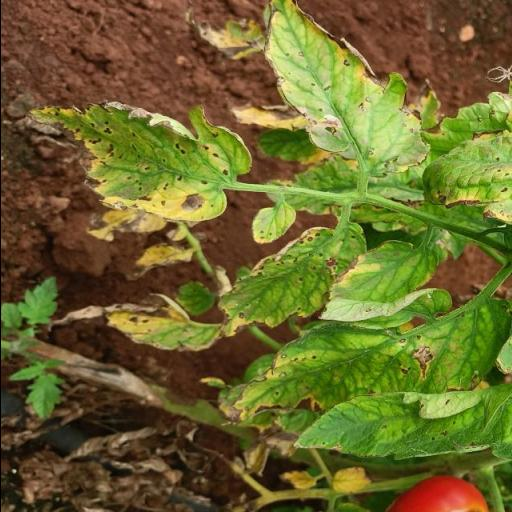Early Blight: (221, 289, 512, 426), (260, 2, 432, 186), (22, 95, 254, 224), (213, 224, 368, 342)
